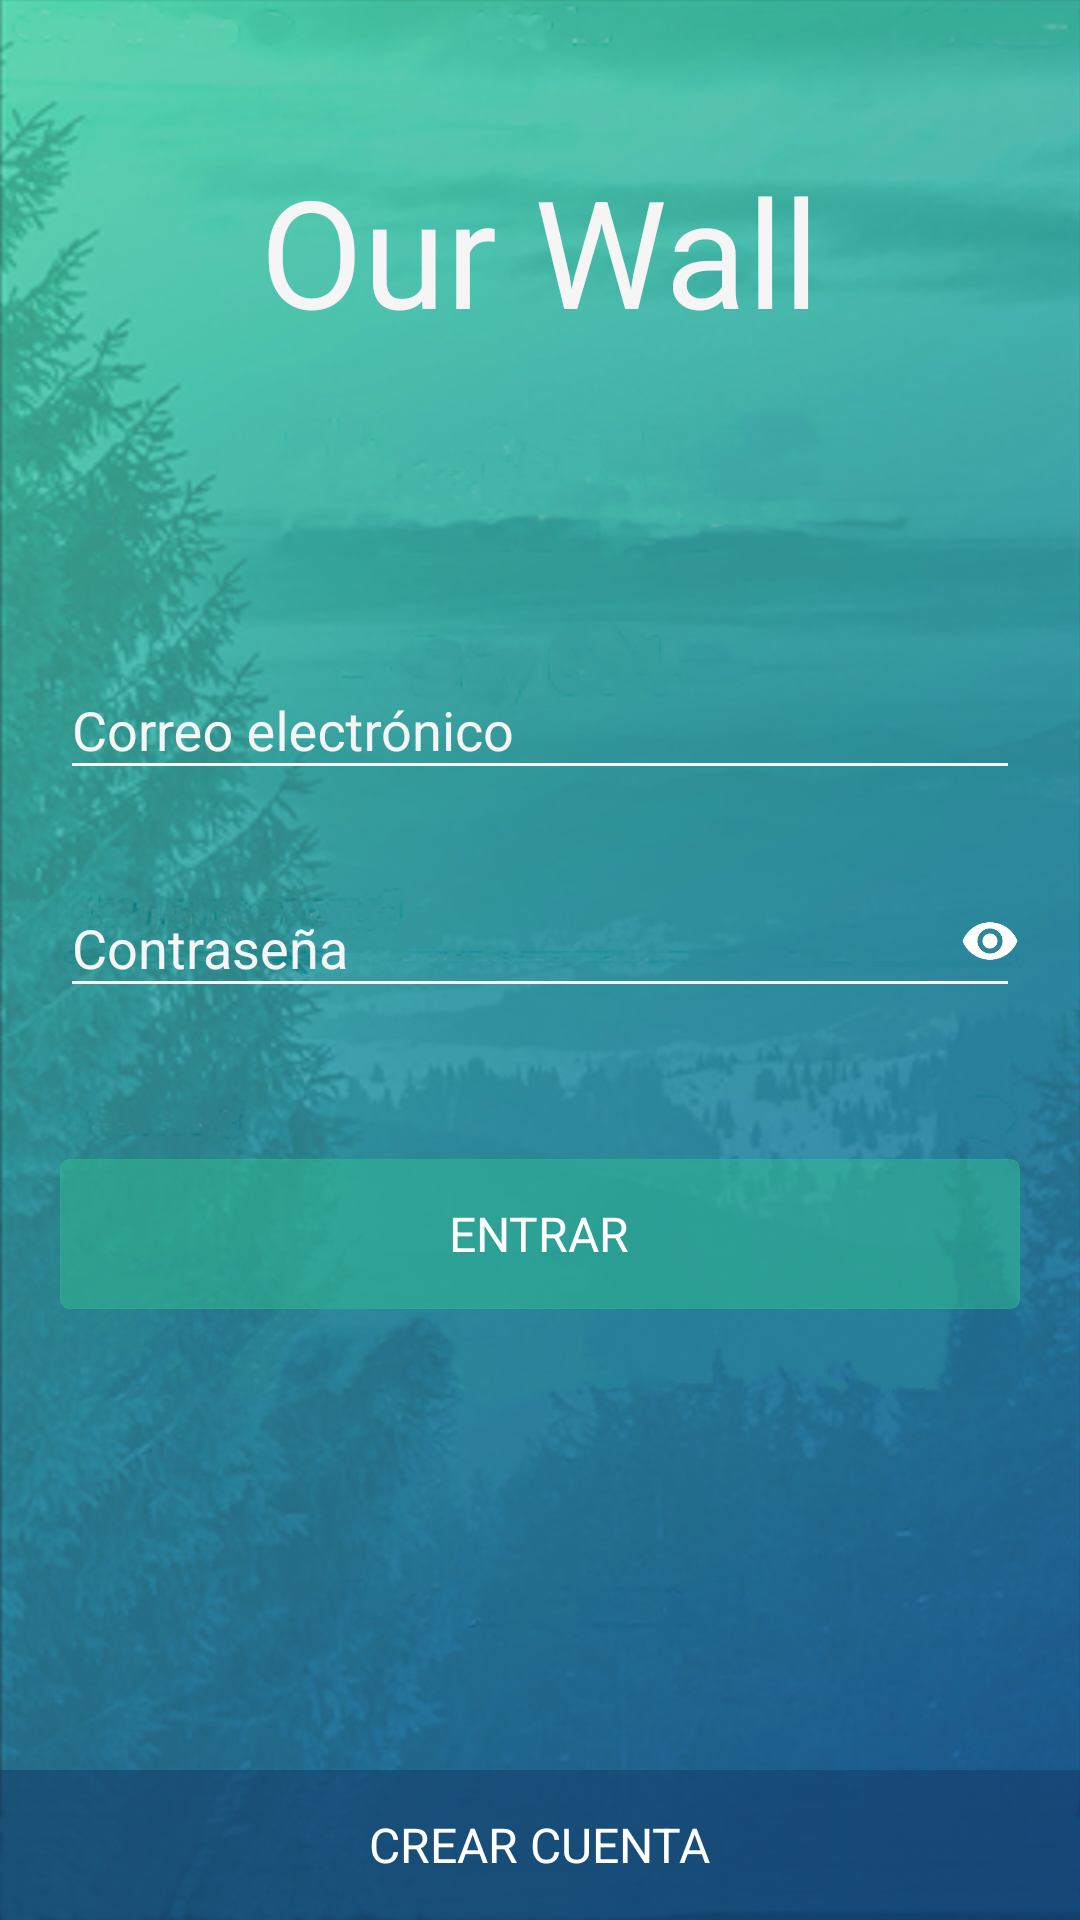

Where to tap for icons on this 1080 x 1920 app screen, as (x=x, y=y):
eye: (x=990, y=941)
